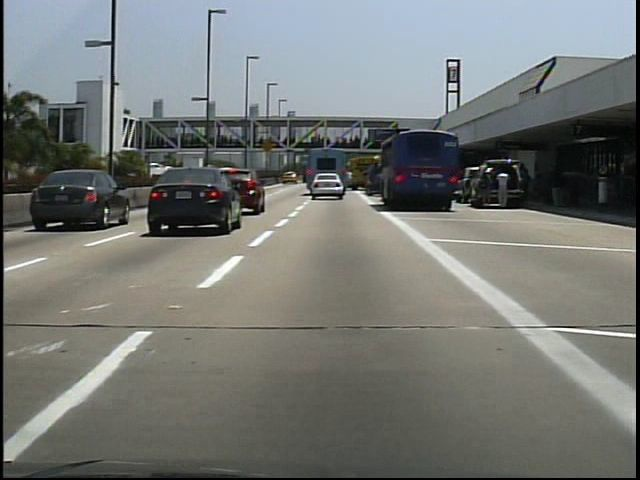person: (474, 165, 496, 215), (493, 164, 512, 212), (549, 167, 564, 209)
